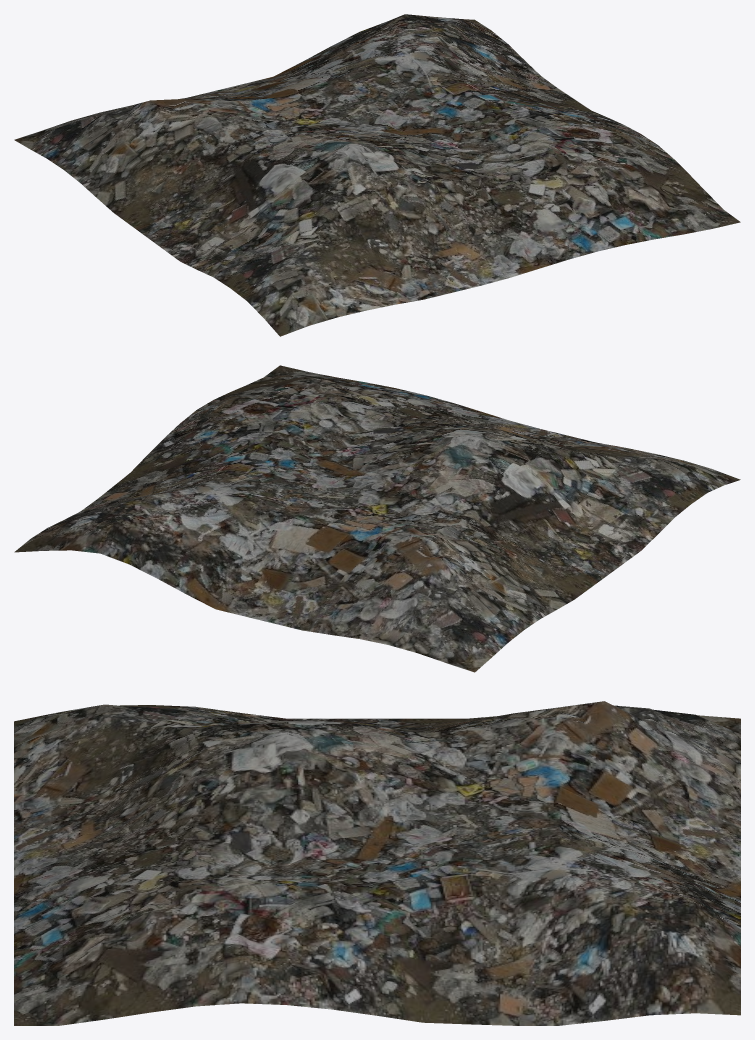
Rendered from Litter.fbx.
The picture shows the model from 3 angles, top to bottom: view 1: azimuth 30°, elevation 25°; view 2: azimuth 150°, elevation 25°; view 3: azimuth 270°, elevation 25°; orthographic projection. The views are drawn at different scales.
Parts seen in each view (by area): view 1: Plane; view 2: Plane; view 3: Plane.
Boxes of the visible parts, box(x1,y1,x2,y2) form: Plane: box(14, 14, 740, 336); Plane: box(14, 365, 740, 672); Plane: box(14, 701, 740, 1025).
Bounding box in the file's own units: 200 × 30.87 × 200.
